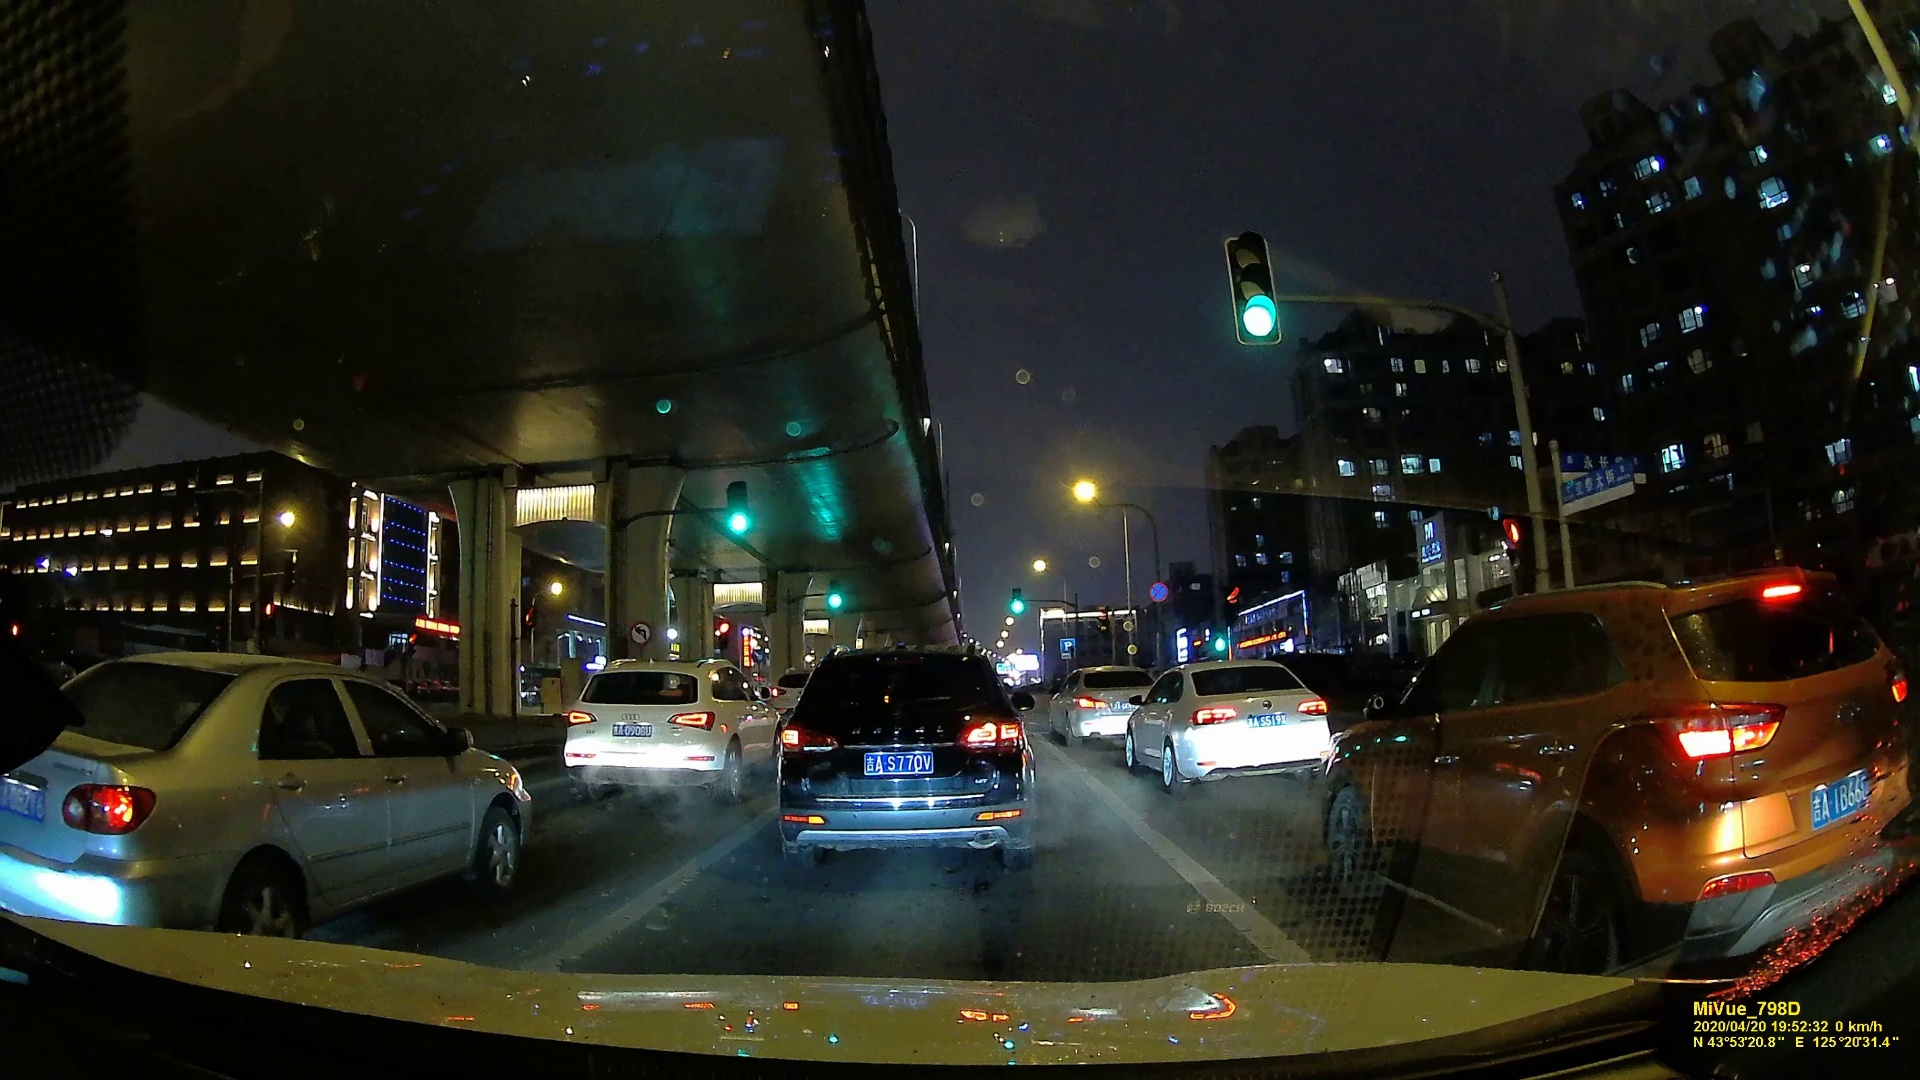traffic_sign: (1225, 232, 1288, 345), (1561, 462, 1639, 505), (1501, 516, 1534, 582), (725, 485, 749, 535), (1222, 585, 1241, 620), (628, 621, 651, 646), (1007, 587, 1025, 616), (828, 582, 844, 611), (1058, 636, 1076, 659), (1149, 582, 1168, 603)
vehicle: (1308, 588, 1902, 972), (1, 647, 531, 938), (769, 638, 1043, 876), (558, 659, 767, 794), (1126, 659, 1341, 789), (1042, 665, 1151, 749)
